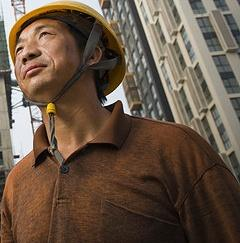hard-hat: (8, 0, 126, 97)
